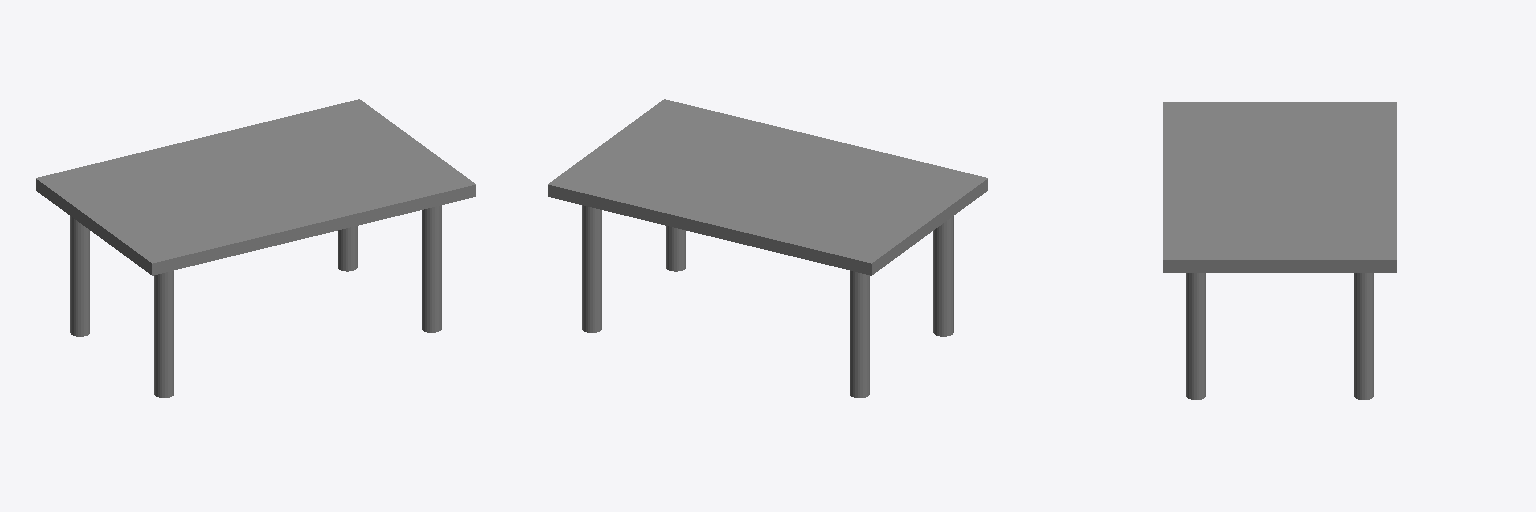
File: table.obj
3 renders of one model, left to right at view 1: azimuth 30°, elevation 25°; view 2: azimuth 150°, elevation 25°; view 3: azimuth 270°, elevation 25°, orthographic.
Visible parts, largest first — view 1: FormFonts_001; view 2: FormFonts_001; view 3: FormFonts_001.
Boxes of the visible parts, box(x1,y1,x2,y2) form: FormFonts_001: box(36, 99, 475, 397); FormFonts_001: box(548, 99, 987, 397); FormFonts_001: box(1163, 102, 1396, 399).
Bounding box in the file's own units: 74.38 × 32.75 × 46.38.